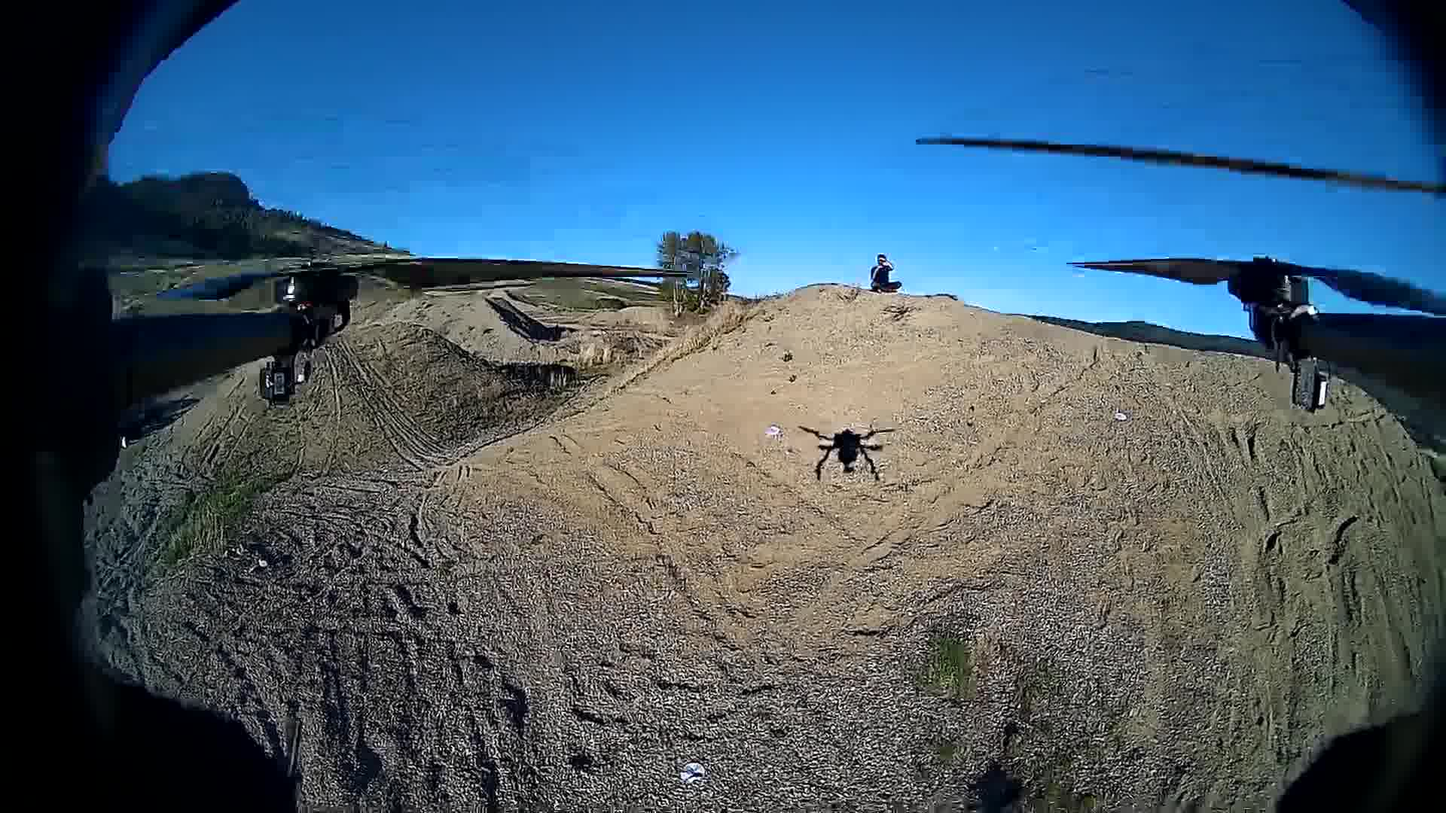Target: (680, 763, 704, 782)
